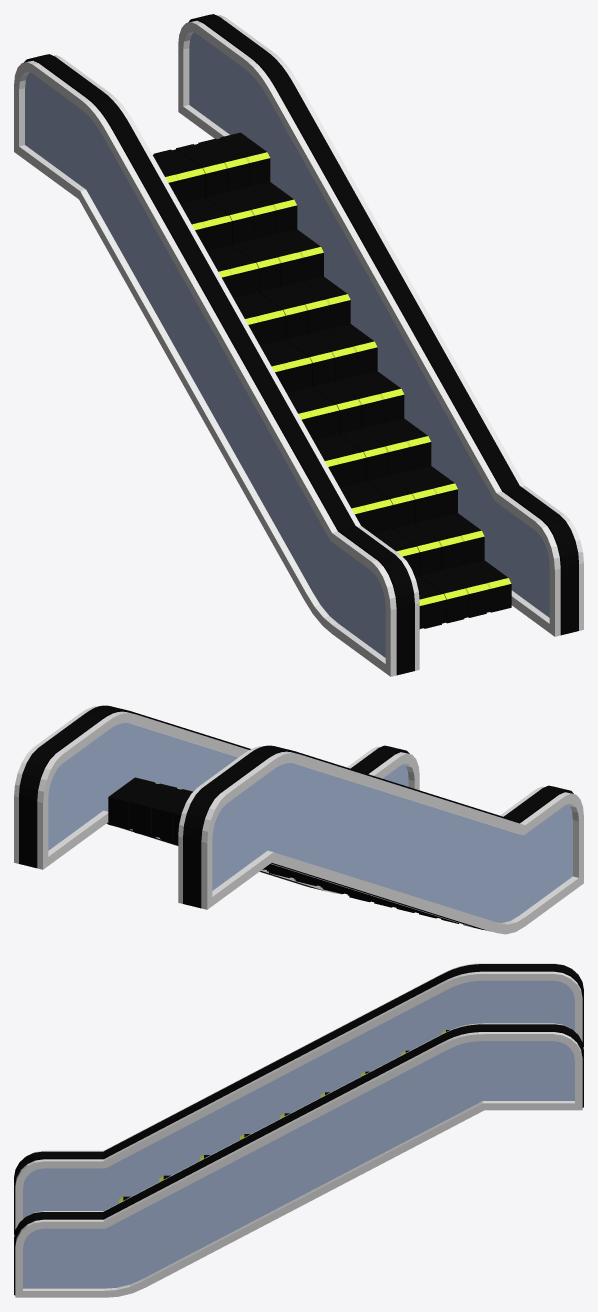
The model's file is escalator.fbx.
3 renders of one model, top to bottom at view 1: azimuth 30°, elevation 25°; view 2: azimuth 150°, elevation 25°; view 3: azimuth 270°, elevation 25°, orthographic. The views are drawn at different scales.
Visible parts, largest first — view 1: Cube.002; view 2: Cube.002; view 3: Cube.002.
Part boxes in pixels (<box>): Cube.002: <box>14,14,583,676</box>; Cube.002: <box>14,705,583,934</box>; Cube.002: <box>14,963,583,1297</box>.
Size of the model in its own units: 400 by 699 by 1358.
